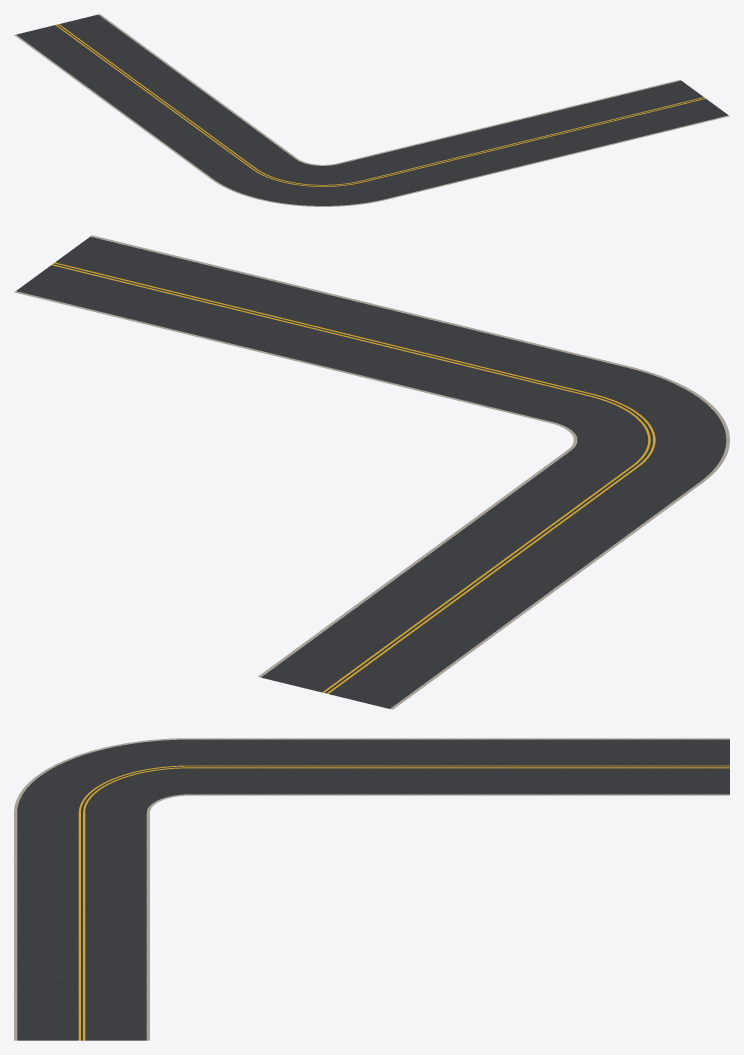
The model's file is road_a_TurnNE.gltf.
The picture shows the model from 3 angles, top to bottom: view 1: azimuth 30°, elevation 25°; view 2: azimuth 150°, elevation 25°; view 3: azimuth 270°, elevation 25°; orthographic projection. The views are drawn at different scales.
Visible parts, largest first — view 1: road_a_TurnNE; view 2: road_a_TurnNE; view 3: road_a_TurnNE.
Part boxes in pixels (<box>): road_a_TurnNE: <box>14,14,729,206</box>; road_a_TurnNE: <box>14,235,729,709</box>; road_a_TurnNE: <box>14,738,729,1040</box>.
Bounding box in the file's own units: 33.15 × 0.0045 × 33.15.
2 materials, 2 textured.
